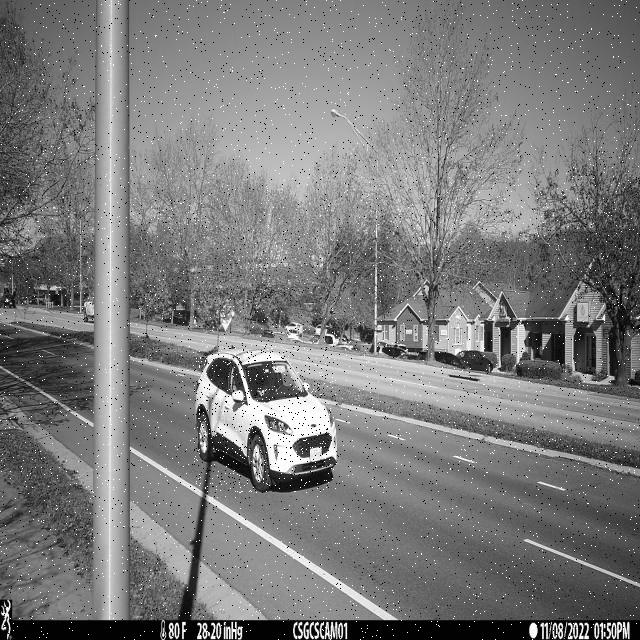SUV: (194, 346, 337, 493)
